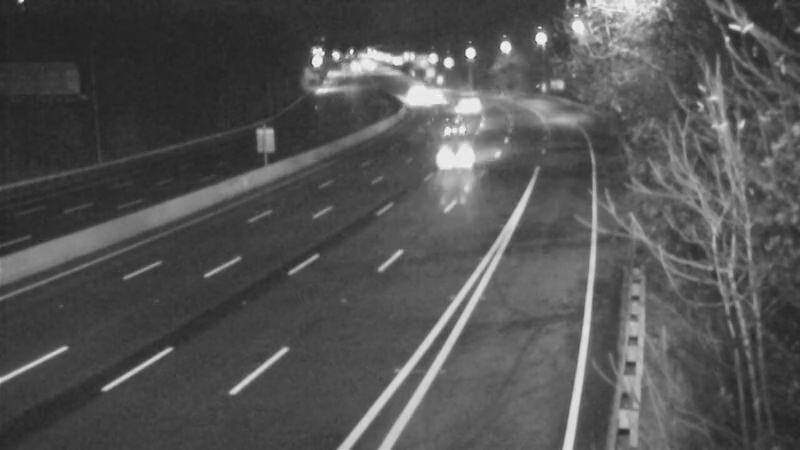vehicle: (413, 117, 493, 197), (390, 73, 440, 123), (446, 78, 496, 128), (429, 107, 479, 157)
